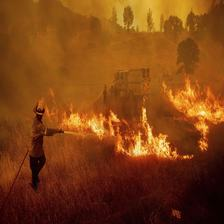fire: (59, 100, 192, 162), (163, 77, 222, 152)
